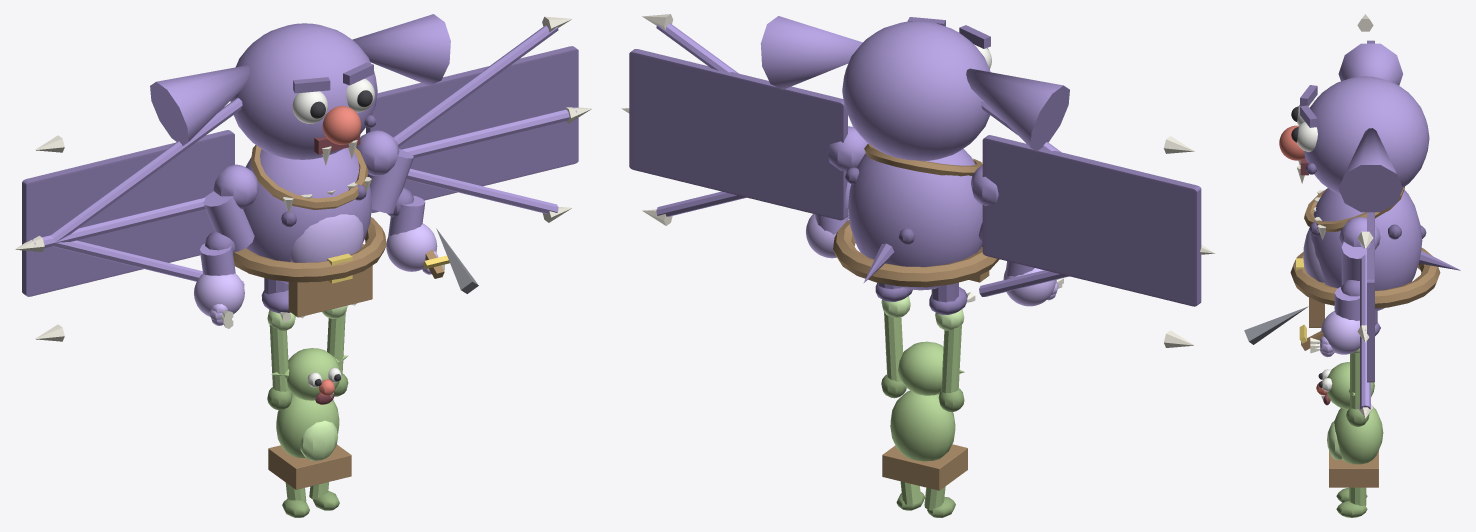
File: troll_bat.glb
3 renders of one model, left to right at view 1: azimuth 30°, elevation 25°; view 2: azimuth 150°, elevation 25°; view 3: azimuth 270°, elevation 25°, orthographic. The views are drawn at different scales.
Visible parts, largest first — view 1: Bat_Membrane, Bat_Membrane.001, Bat_Head, Bat_Body, Bat_Ear, Bat_Ear.001, Bat_Belt, Bat_Cloth, Bat_BellyPatch, Bat_WingBone, Hang_Cloth, Bat_WingBone.003 (+21 smaller); view 2: Bat_Membrane, Bat_Membrane.001, Bat_Head, Bat_Body, Bat_Ear, Bat_Ear.001, Bat_Belt, Hang_Body, Hang_Cloth, Hang_Head, Bat_BoneNecklace, Hang_Arm (+8 smaller); view 3: Bat_Head, Bat_Body, Bat_Ear.001, Bat_Belt, Hang_Body, Bat_Ear, Hang_Cloth, Bat_Membrane.001, Bat_Hand.001, Hang_Head, Bat_UpperArm.001, Bat_BoneNecklace (+18 smaller).
Part boxes in pixels (<box>): Bat_Membrane: <box>22,130,234,296</box>; Bat_Membrane.001: <box>366,46,578,212</box>; Bat_Head: <box>230,23,377,159</box>; Bat_Body: <box>243,147,371,284</box>; Bat_Ear: <box>150,65,249,145</box>; Bat_Ear.001: <box>352,14,450,85</box>; Bat_Belt: <box>233,217,386,282</box>; Bat_Cloth: <box>288,244,372,317</box>; Bat_BellyPatch: <box>290,214,363,262</box>; Bat_WingBone: <box>50,97,242,242</box>; Hang_Cloth: <box>268,444,351,489</box>; Bat_WingBone.003: <box>393,25,558,147</box>; Bat_Membrane: <box>982,135,1201,306</box>; Bat_Membrane.001: <box>629,49,847,220</box>; Bat_Head: <box>842,21,990,160</box>; Bat_Body: <box>848,148,982,290</box>; Bat_Ear: <box>966,68,1069,151</box>; Bat_Ear.001: <box>760,16,862,89</box>; Bat_Belt: <box>833,220,999,287</box>; Hang_Body: <box>890,390,955,461</box>; Hang_Cloth: <box>882,444,967,490</box>; Hang_Head: <box>898,341,943,395</box>; Bat_BoneNecklace: <box>864,143,982,176</box>; Hang_Arm: <box>941,324,961,393</box>; Bat_Head: <box>1304,76,1429,194</box>; Bat_Body: <box>1310,188,1422,310</box>; Bat_Ear.001: <box>1338,128,1402,212</box>; Bat_Belt: <box>1290,248,1440,308</box>; Hang_Body: <box>1334,406,1383,464</box>; Bat_Ear: <box>1338,43,1402,85</box>; Hang_Cloth: <box>1329,450,1378,487</box>; Bat_Membrane.001: <box>1367,212,1374,382</box>; Bat_Hand.001: <box>1321,311,1359,354</box>; Hang_Head: <box>1327,362,1374,409</box>; Bat_UpperArm.001: <box>1341,242,1366,285</box>; Bat_BoneNecklace: <box>1304,187,1404,231</box>.
Bounding box in the file's own units: 1.55 × 1.22 × 0.5653.
